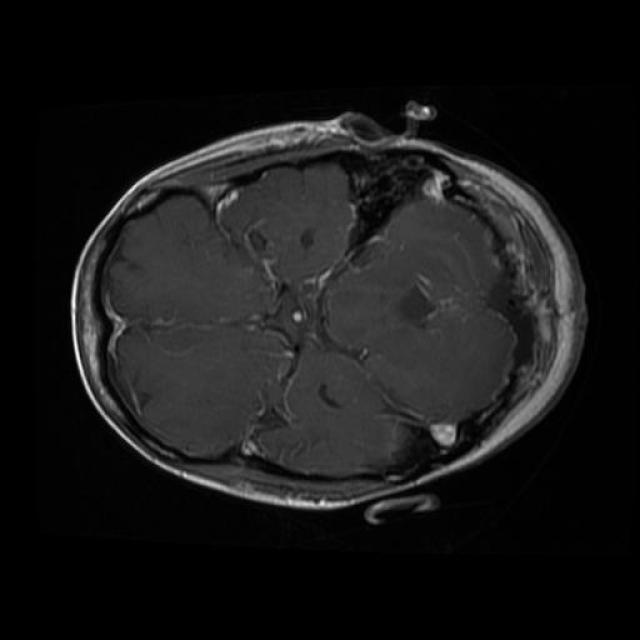Glioma: (348, 150, 416, 256), (429, 423, 456, 450)
